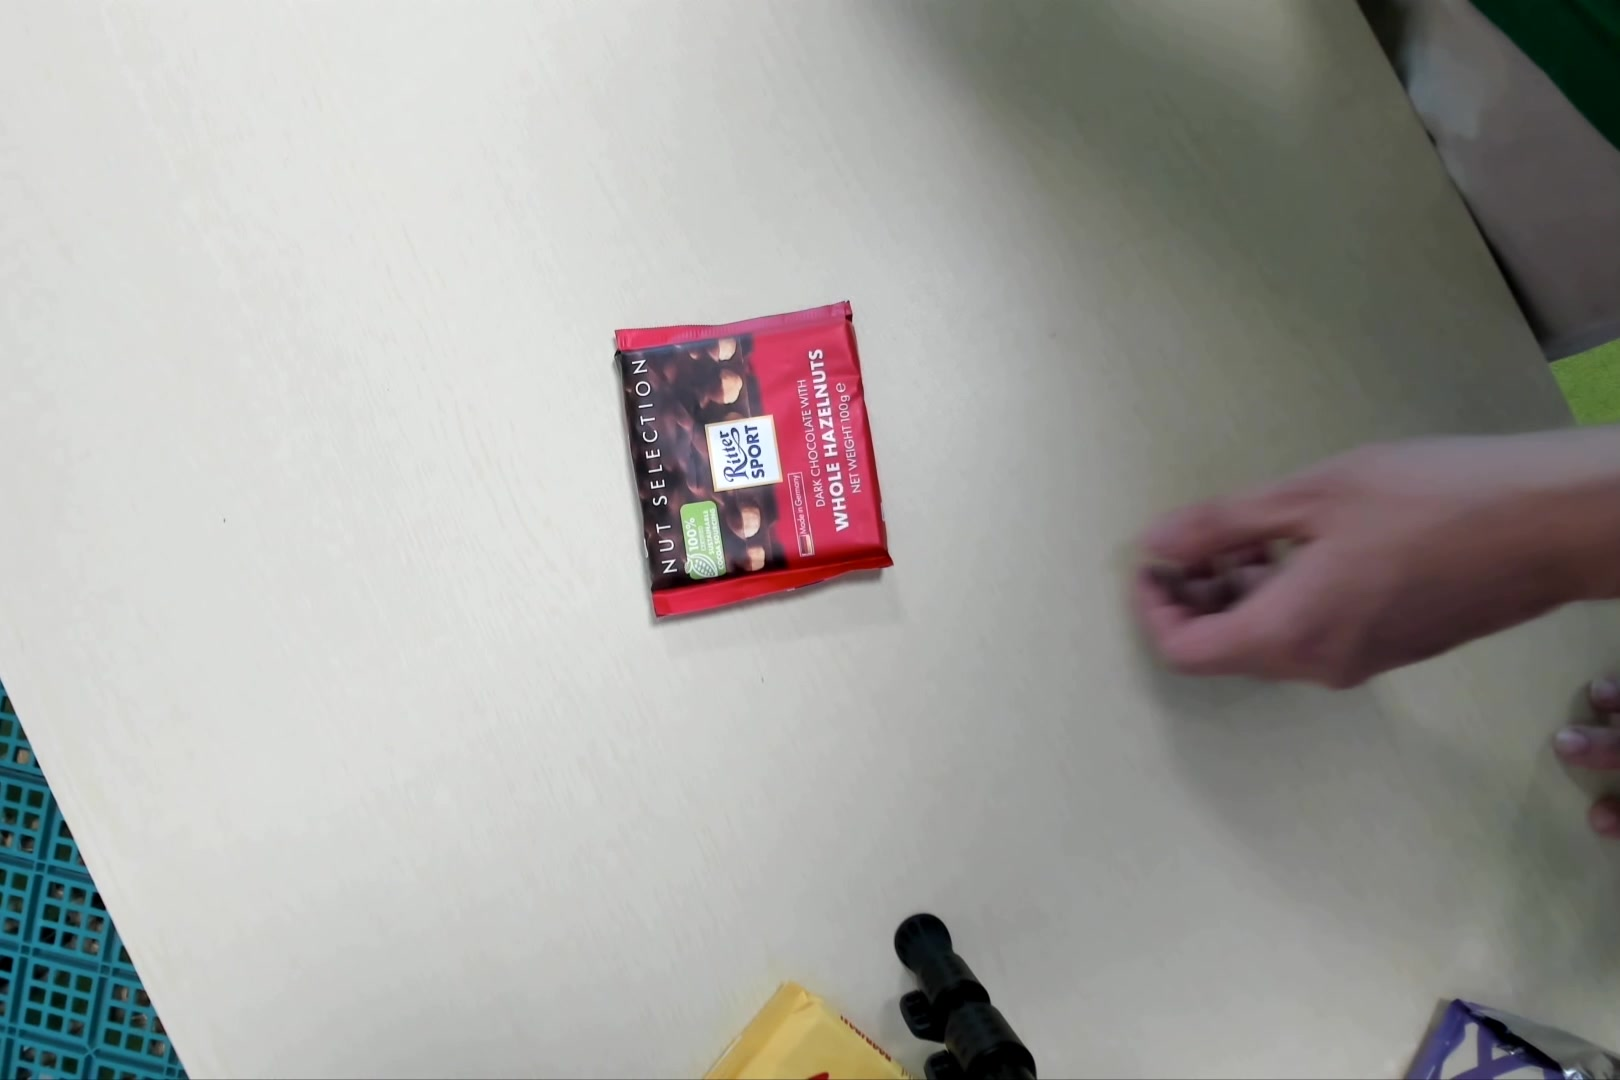SweetsChocolatesOthers_100-199g_NonHalal_NonHealthy: (616, 303, 899, 621)
